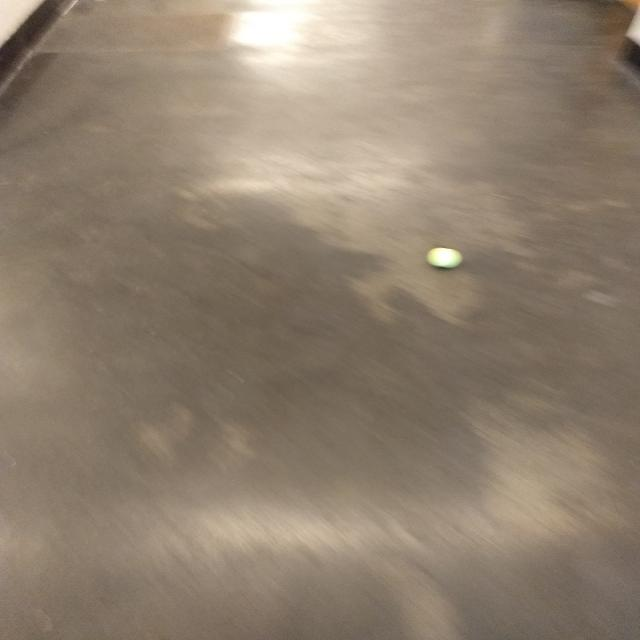Tennis-Ball: (399, 226, 478, 280)
